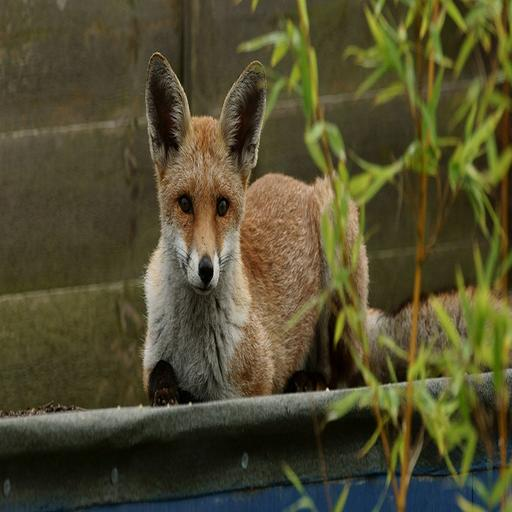Fox: (135, 41, 371, 412)
